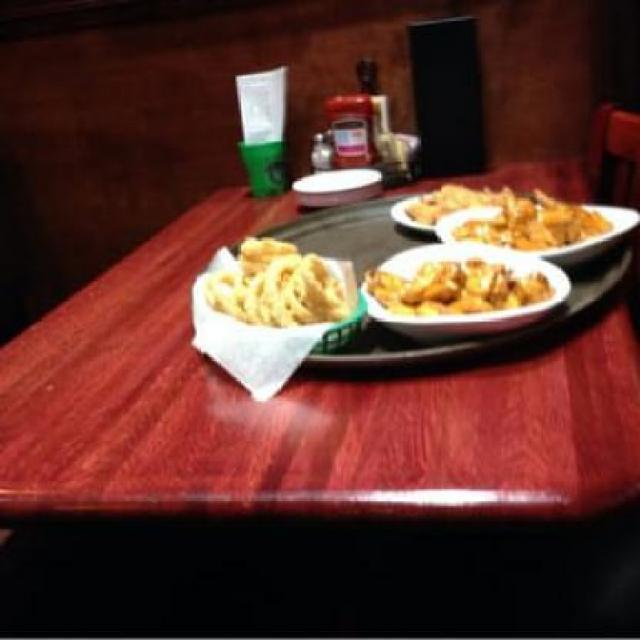chicken wings: (364, 250, 562, 318), (443, 195, 622, 247)
onion rings: (200, 233, 355, 342), (397, 179, 505, 223)
